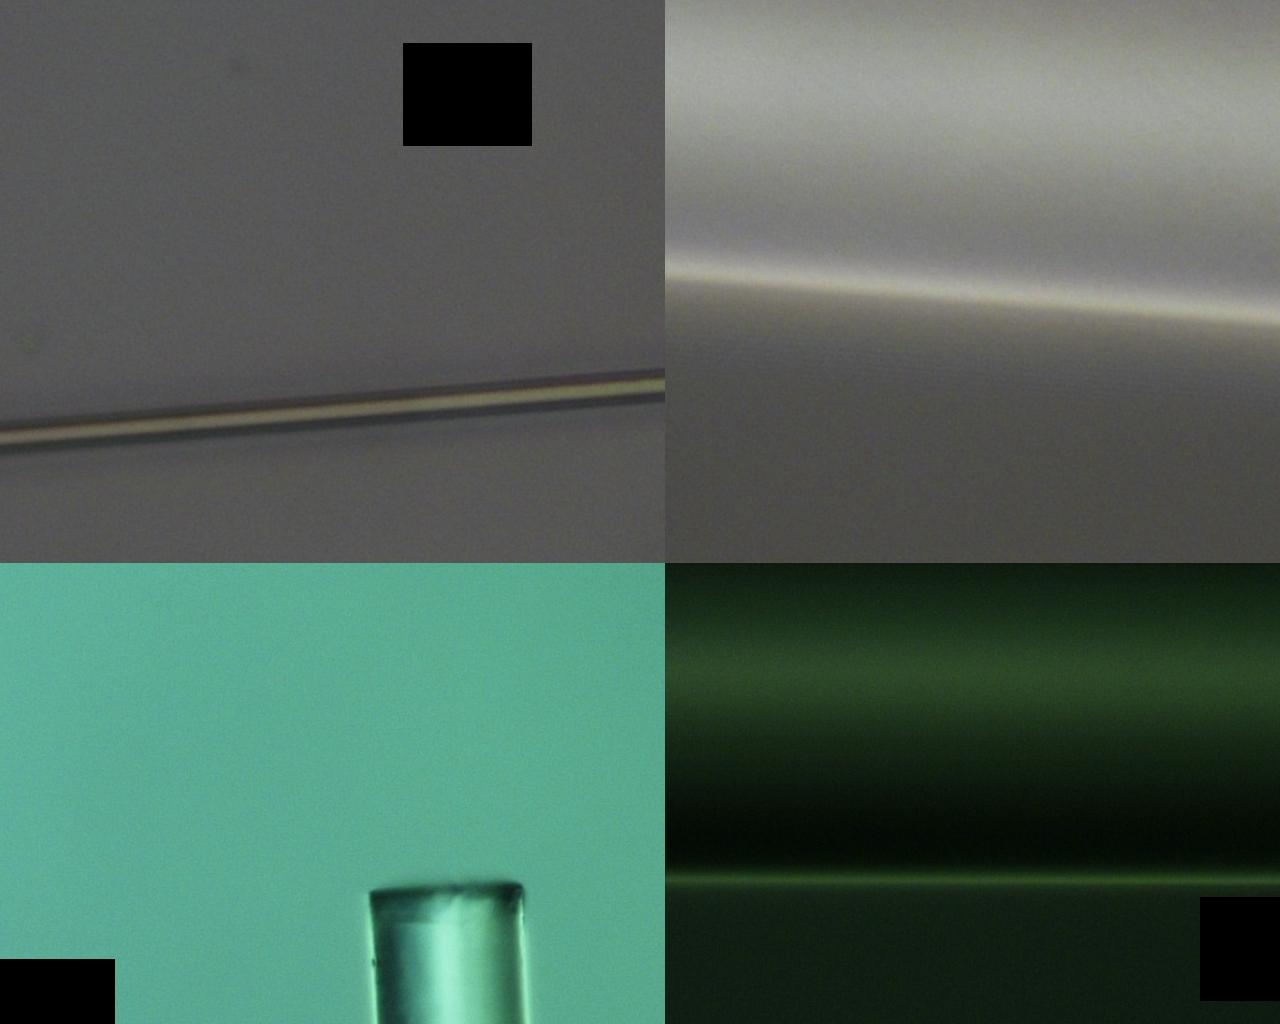fiber: (0, 583, 678, 1024), (776, 583, 857, 1024), (635, 0, 678, 583)
